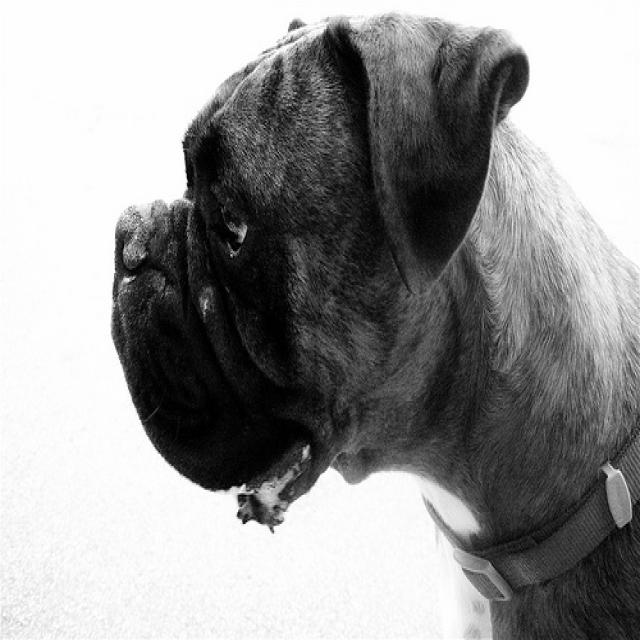dog: (109, 14, 526, 524)
